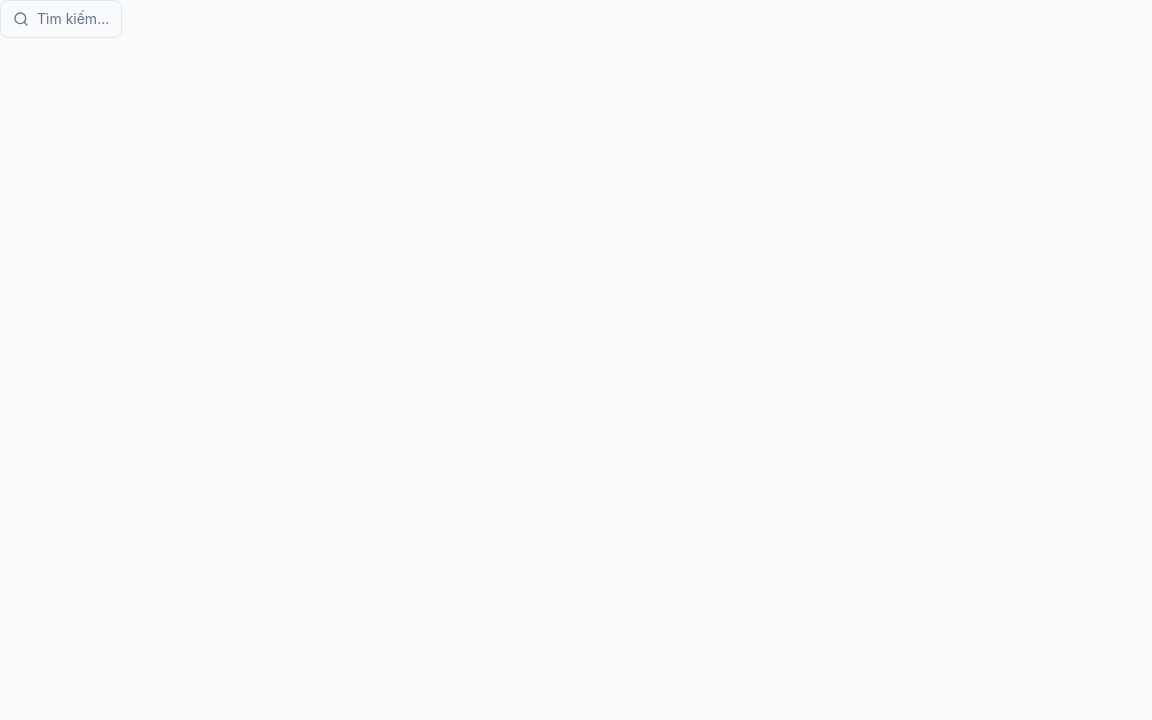
Test: Global search › supports category drill-down and pagination
The image size is (1152, 720).
Press k
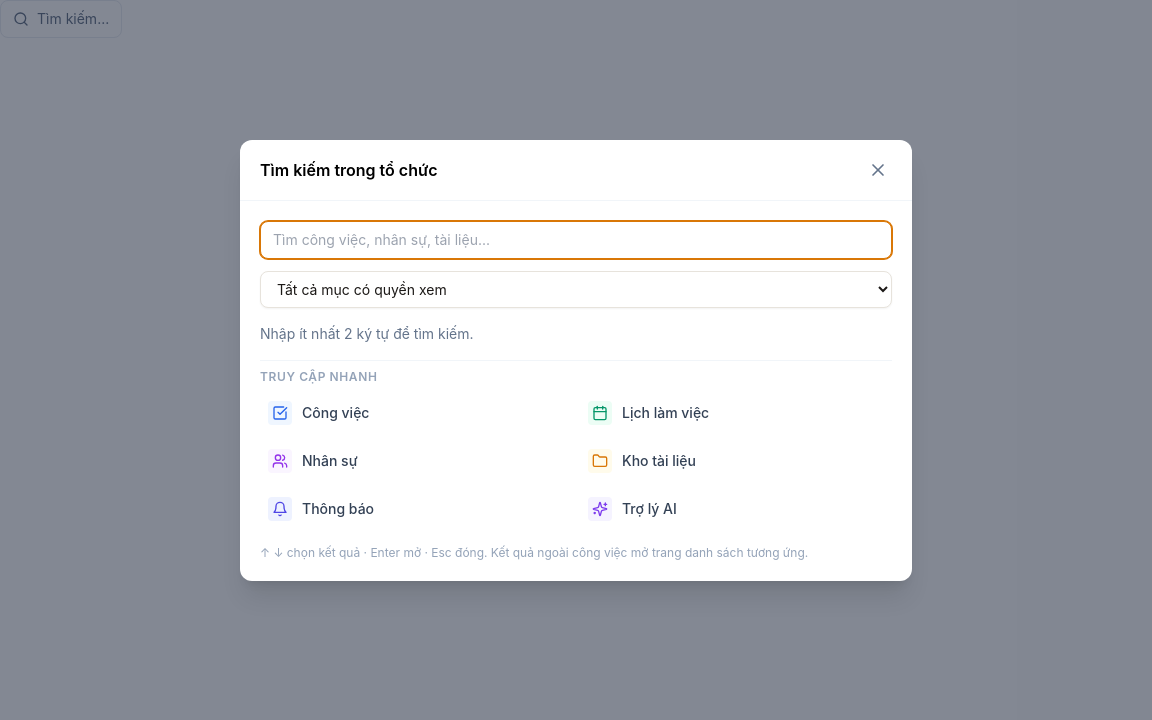
Type "Báo cáo" into the field named "Từ khóa tìm kiếm" at x=576, y=240, box [260, 220, 892, 258]
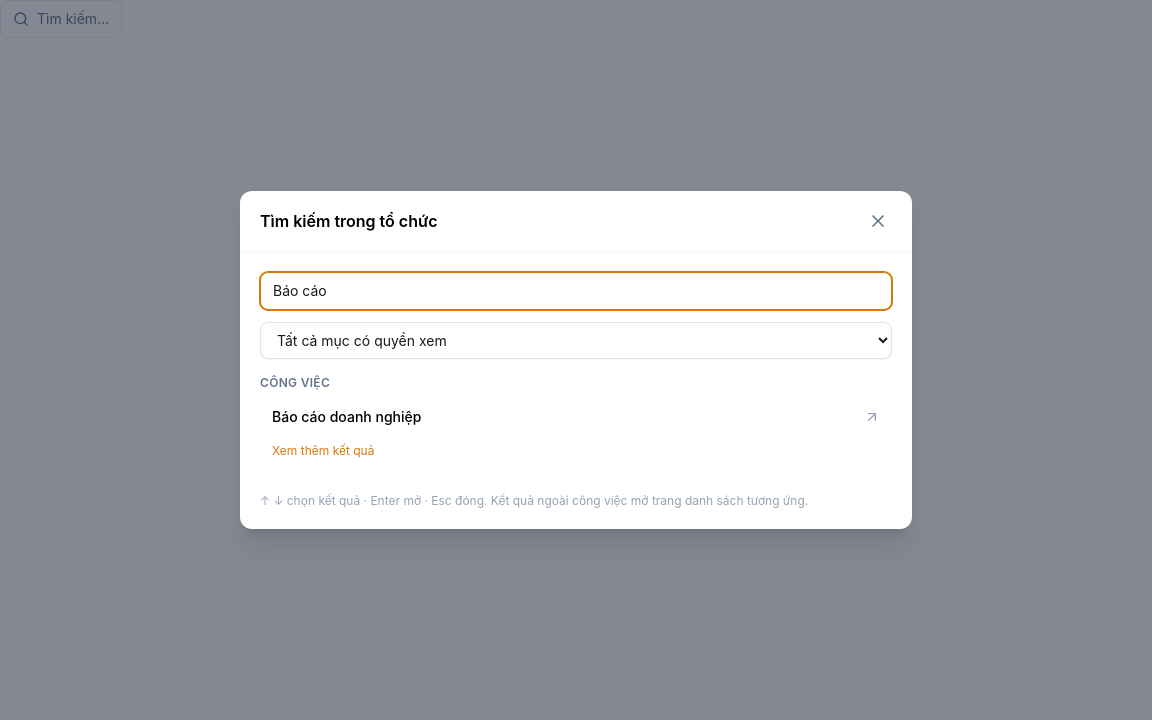
Click the button "Xem thêm kết quả" at x=323, y=451, box [260, 443, 386, 459]
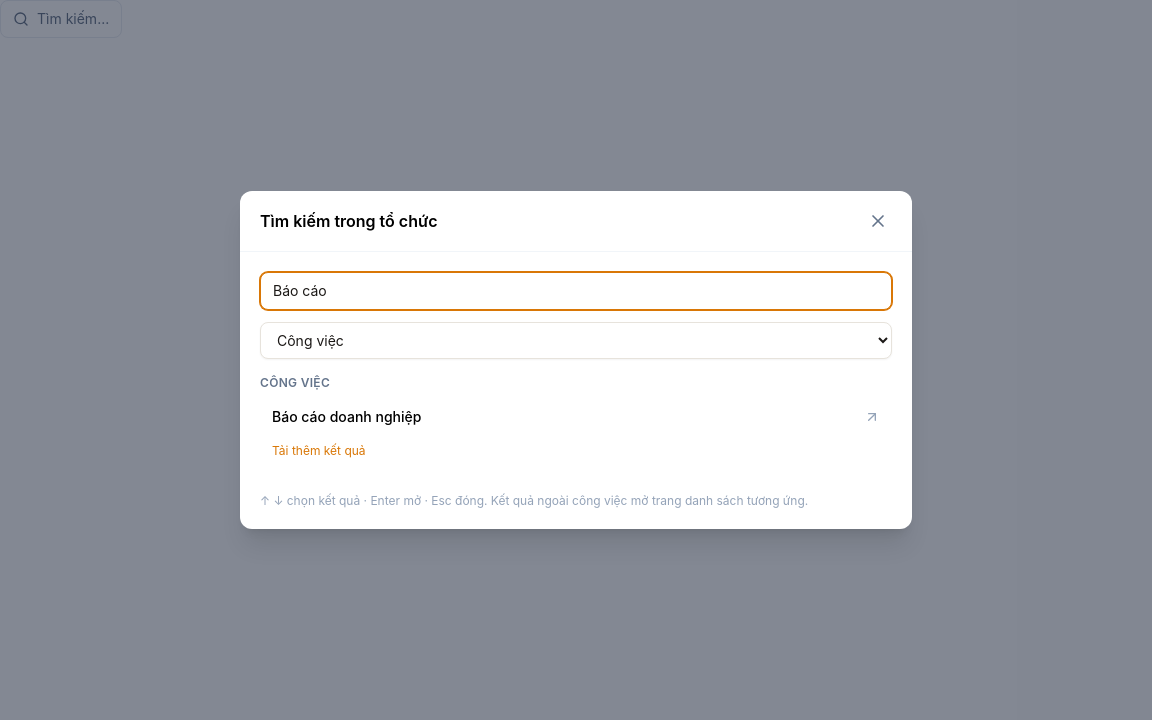
Click the button "Tải thêm kết quả" at x=319, y=451, box [260, 443, 378, 459]
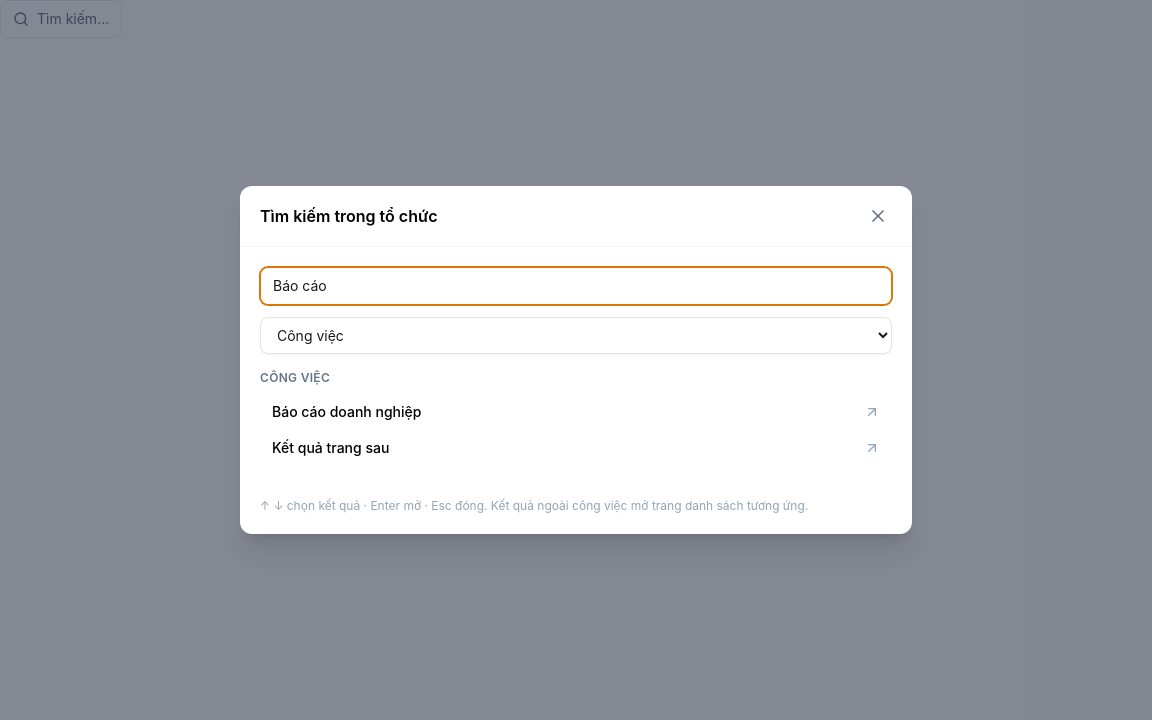
Expected: the text "Báo cáo doanh nghiệp" is shown, [272, 403, 421, 420]
Expected: the text "Kết quả trang sau" is shown, [272, 439, 389, 456]
